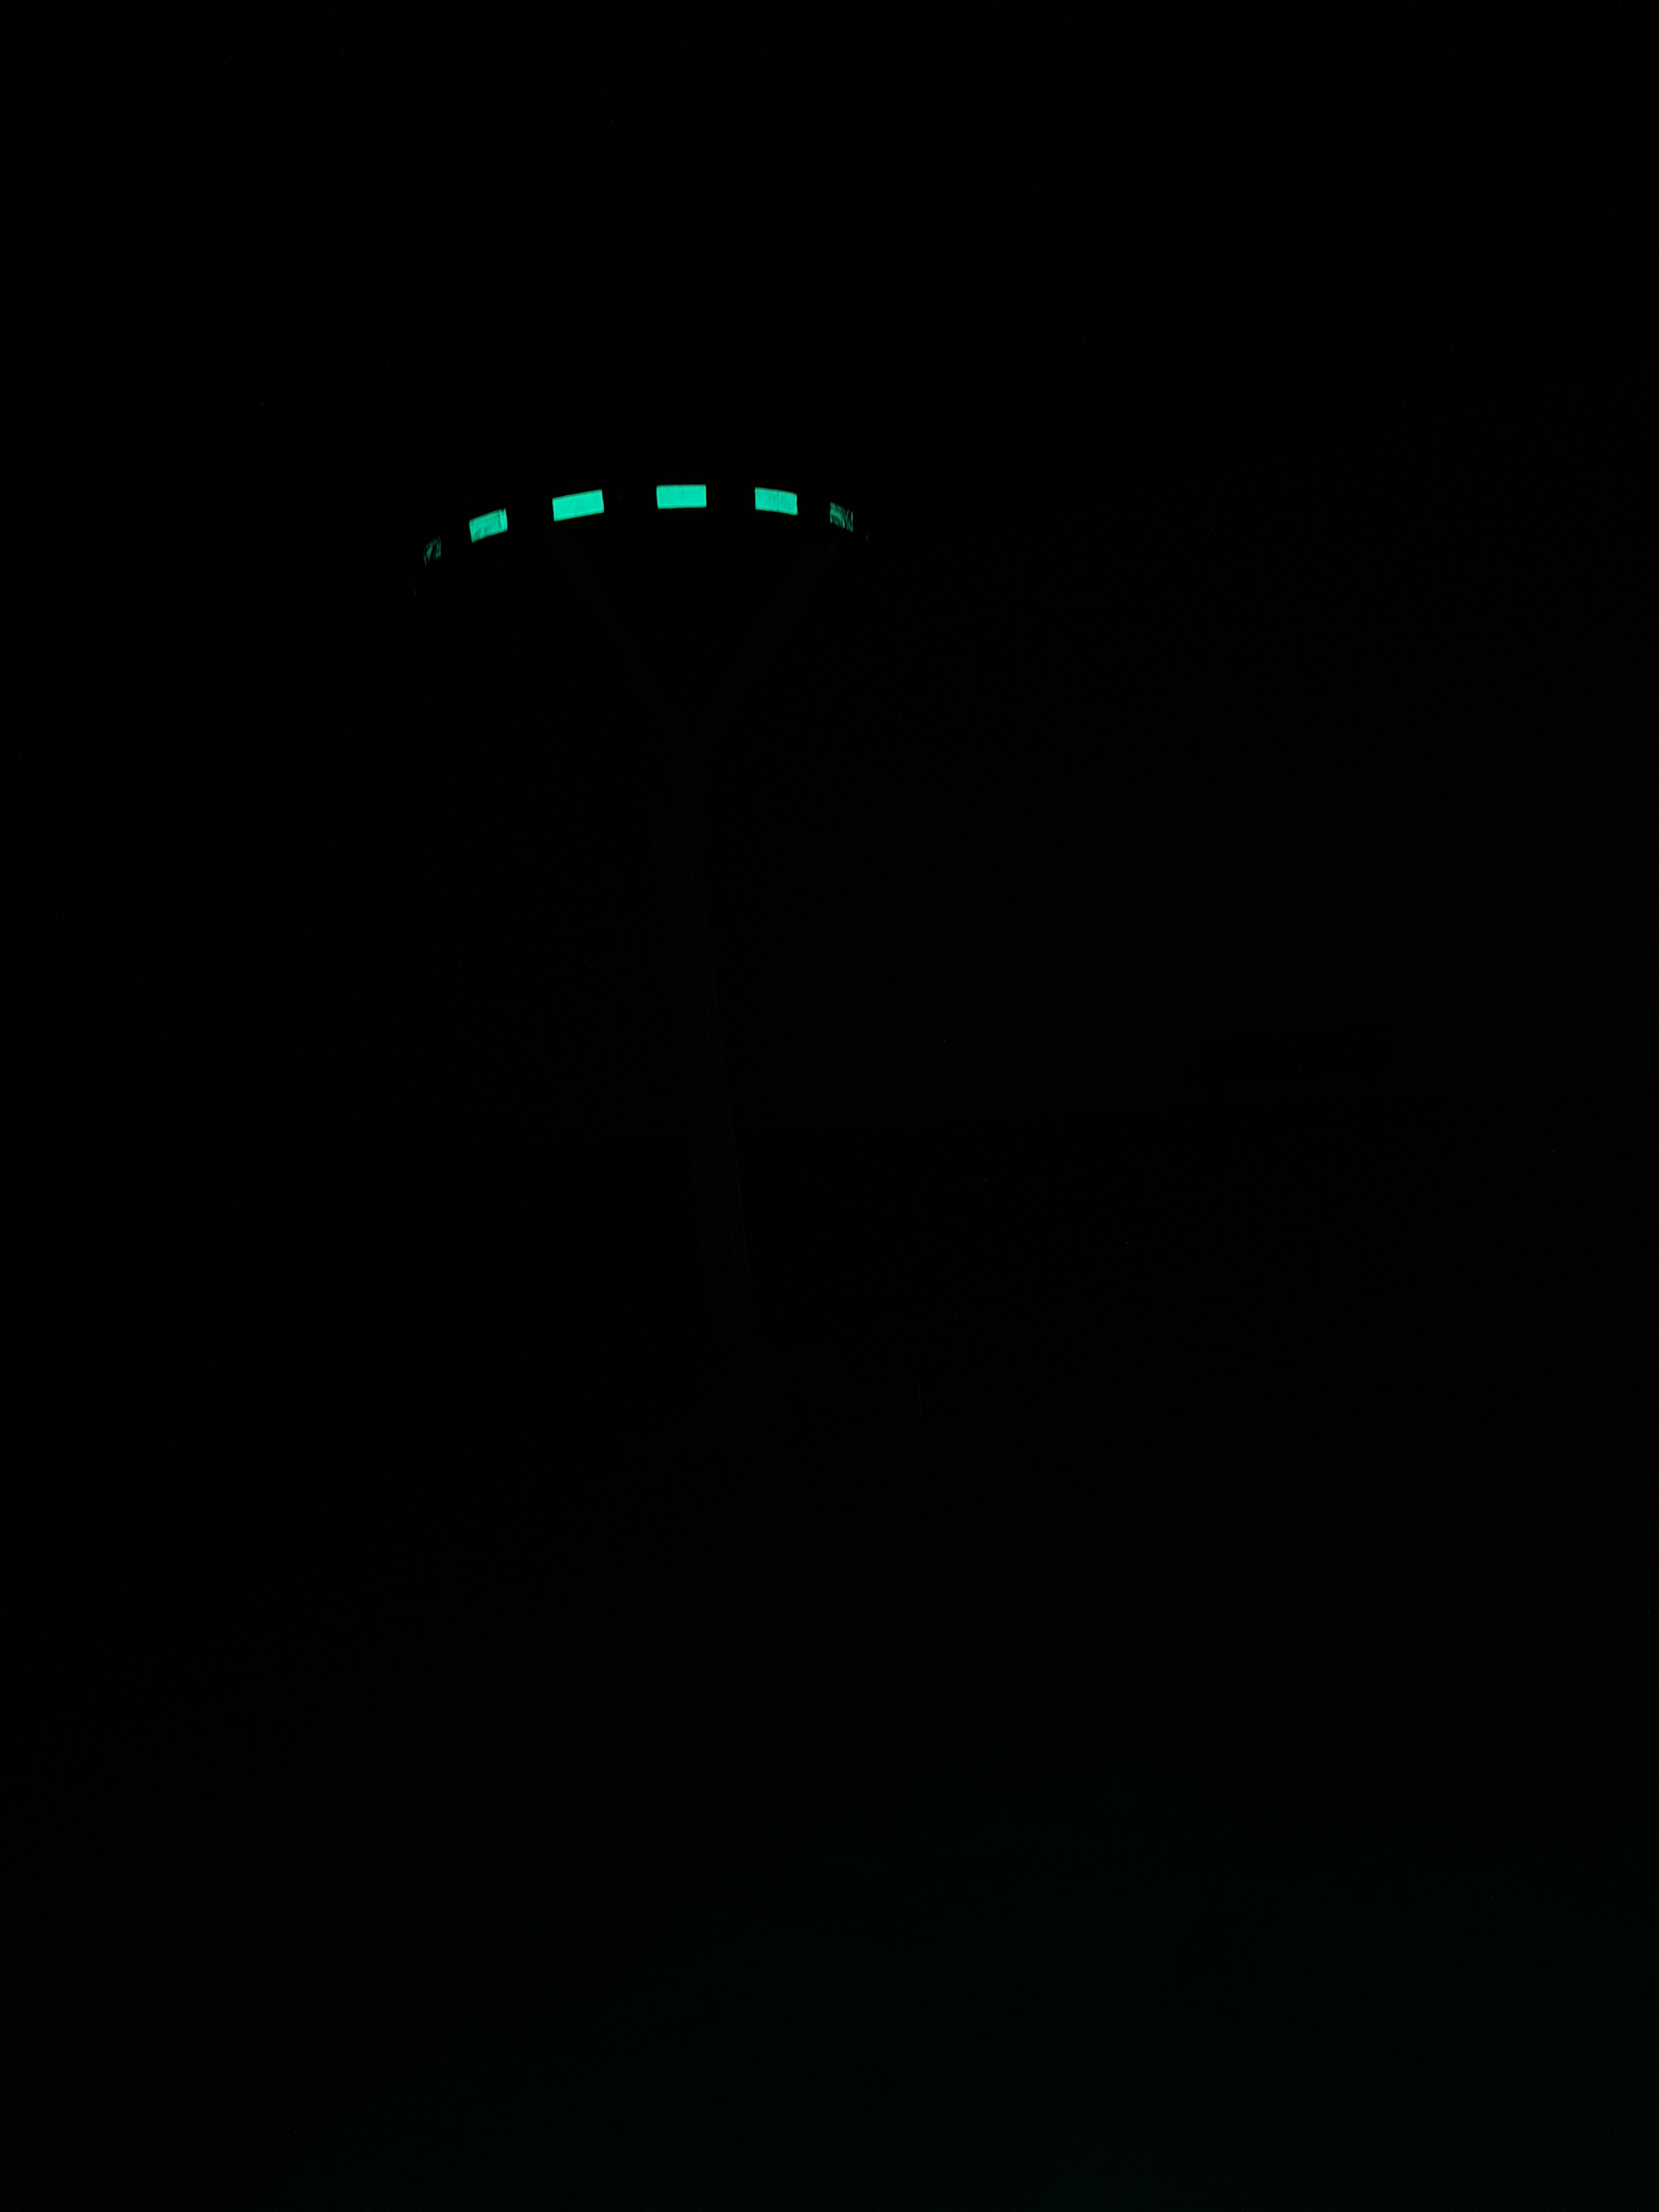hoop: (422, 482, 854, 556)
